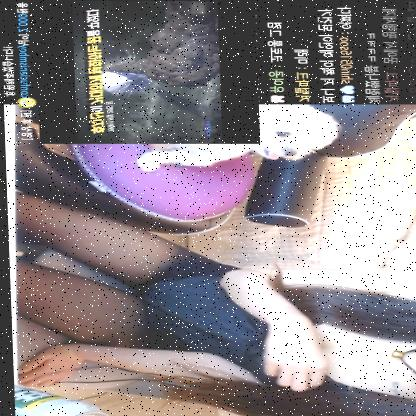donation: (0, 0, 260, 143)
streamer: (11, 194, 416, 416)
